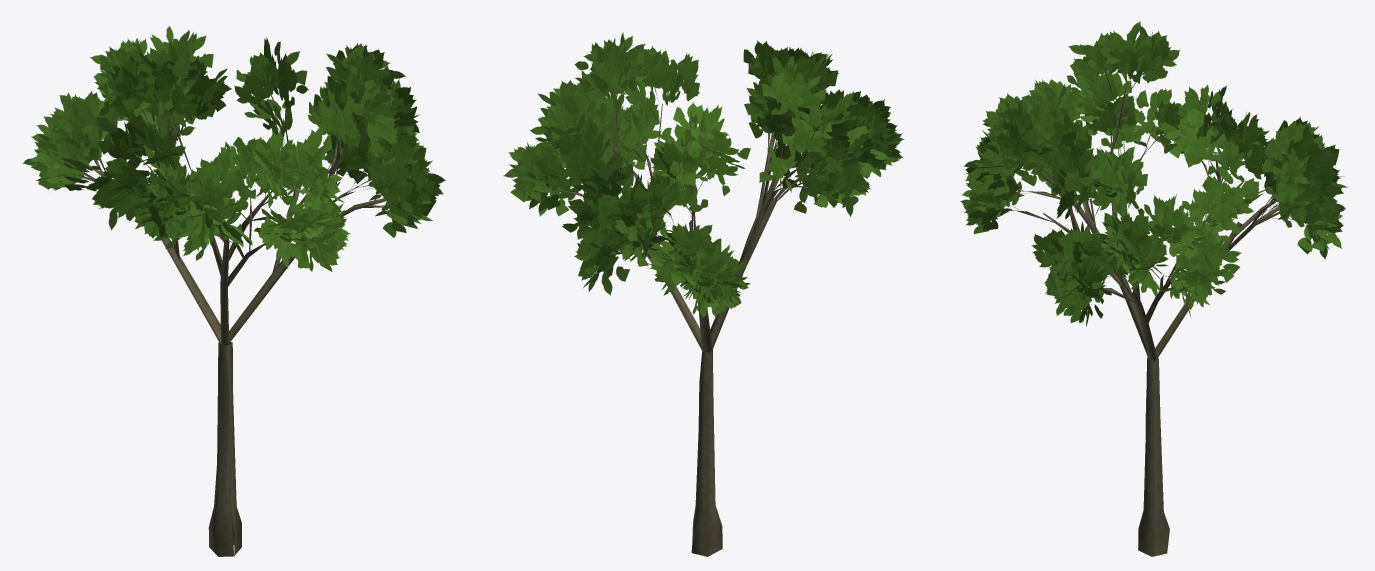
Rendered from beech_lod0.glb.
3 renders of one model, left to right at view 1: azimuth 30°, elevation 25°; view 2: azimuth 150°, elevation 25°; view 3: azimuth 270°, elevation 25°, orthographic. The views are drawn at different scales.
Parts seen in each view (by area): view 1: bark; view 2: bark; view 3: bark.
Part boxes in pixels (left/top/right/bottom): bark: left=22, top=26, right=445, bottom=556; bark: left=503, top=32, right=904, bottom=556; bark: left=960, top=21, right=1347, bottom=556.
Bounding box in the file's own units: 8.24 × 11.48 × 8.7.
2 materials, 2 textured.
